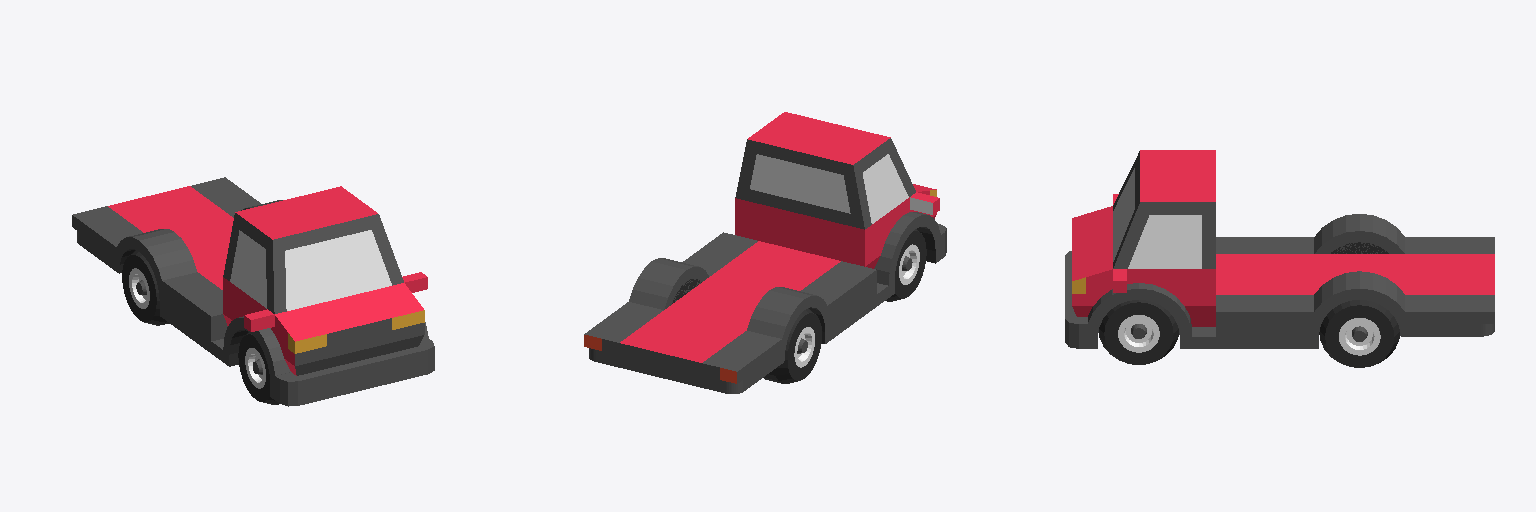
Rendered from deliveryFlat.obj.
3 views of the same model, side by side, from view 1: azimuth 30°, elevation 25°; view 2: azimuth 150°, elevation 25°; view 3: azimuth 270°, elevation 25° (orthographic).
Parts seen in each view (by area): view 1: body, wheel_backRight, wheel_frontRight; view 2: body, wheel_backRight, wheel_frontRight; view 3: body, wheel_backLeft, wheel_frontLeft.
Part boxes in pixels (bbox=[...]): body: bbox=[72, 177, 434, 406]; wheel_backRight: bbox=[122, 250, 169, 325]; wheel_frontRight: bbox=[238, 332, 278, 404]; body: bbox=[584, 112, 946, 393]; wheel_backRight: bbox=[763, 308, 821, 383]; wheel_frontRight: bbox=[885, 229, 926, 301]; body: bbox=[1065, 150, 1494, 348]; wheel_backLeft: bbox=[1319, 300, 1399, 367]; wheel_frontLeft: bbox=[1099, 300, 1178, 364].
Size of the model in its own units: 1.5 by 1.3 by 3.15.